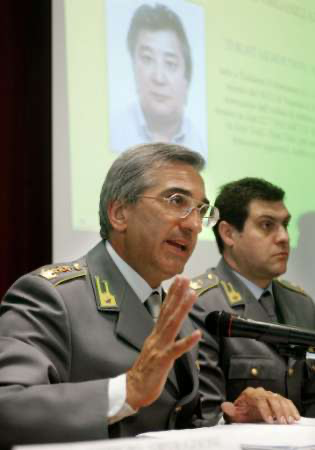Face: (142, 172, 215, 280), (129, 25, 192, 130), (235, 197, 296, 284)
